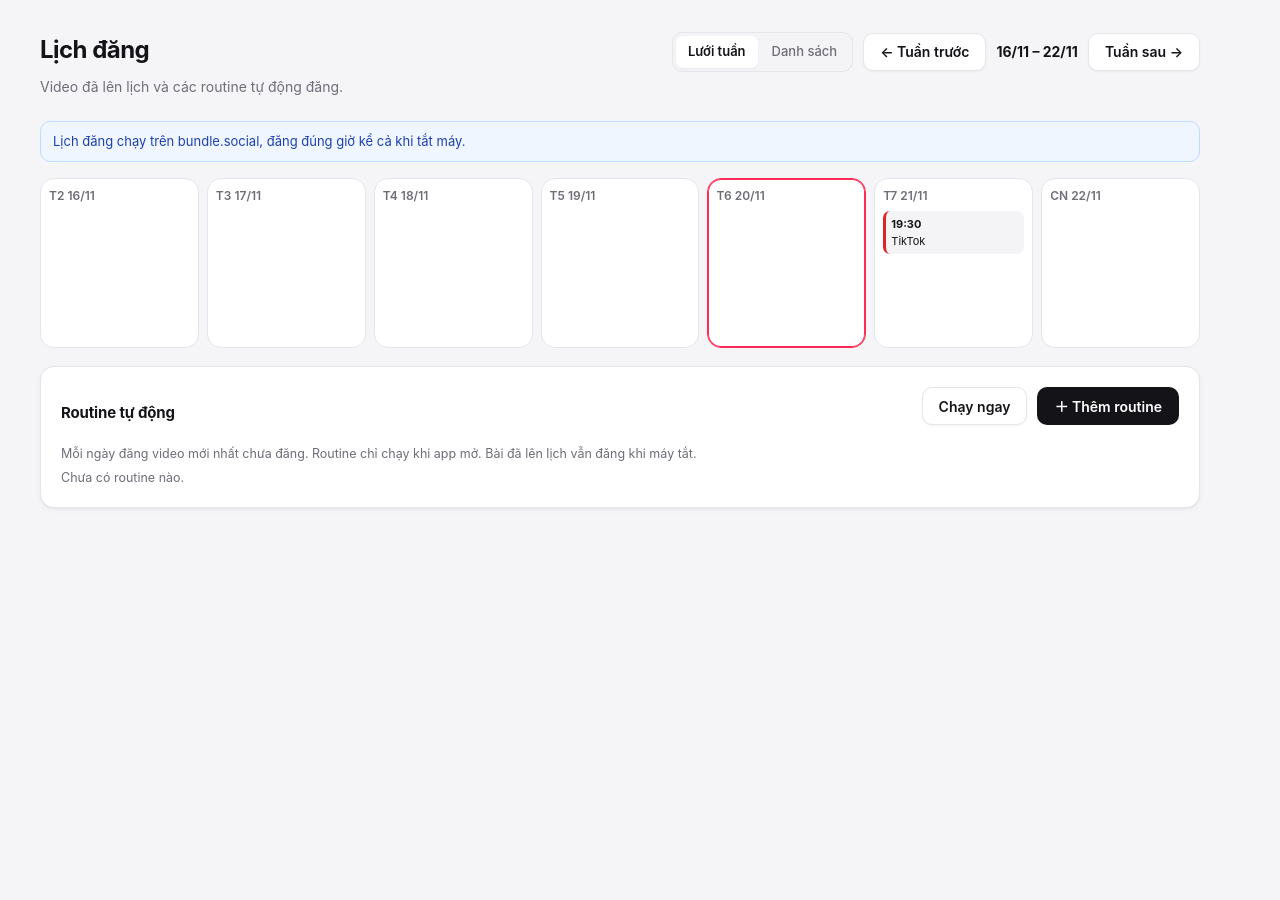
Test: an ERROR post shows its error and Thử lại calls socialRetry
Later steps or results of the test are not shown.
Click the button with aria-label "Bài 19:30". click: (954, 232)
box: [883,211,1024,254]
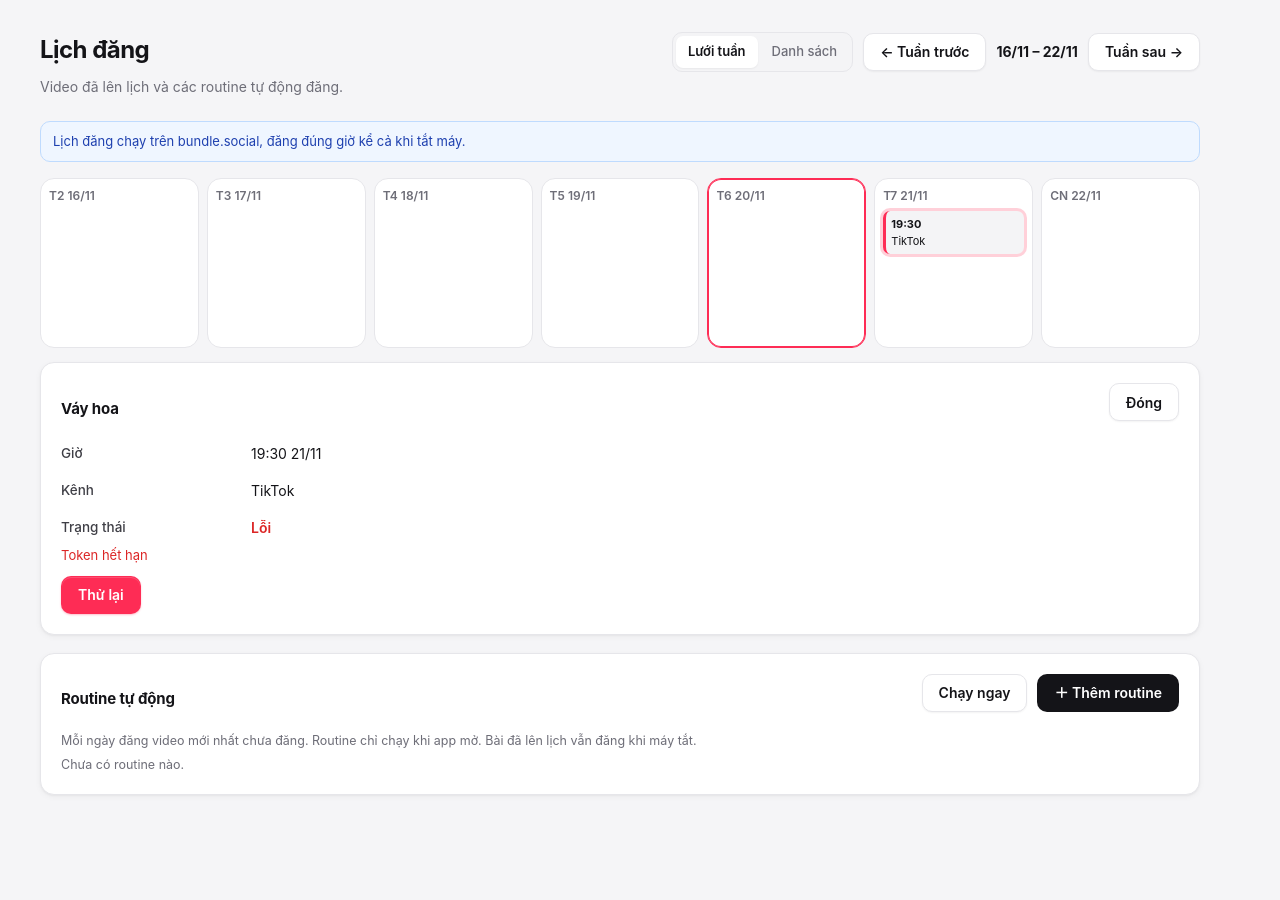
Check: the text "Token hết hạn" is shown, box [61,547,148,563]
